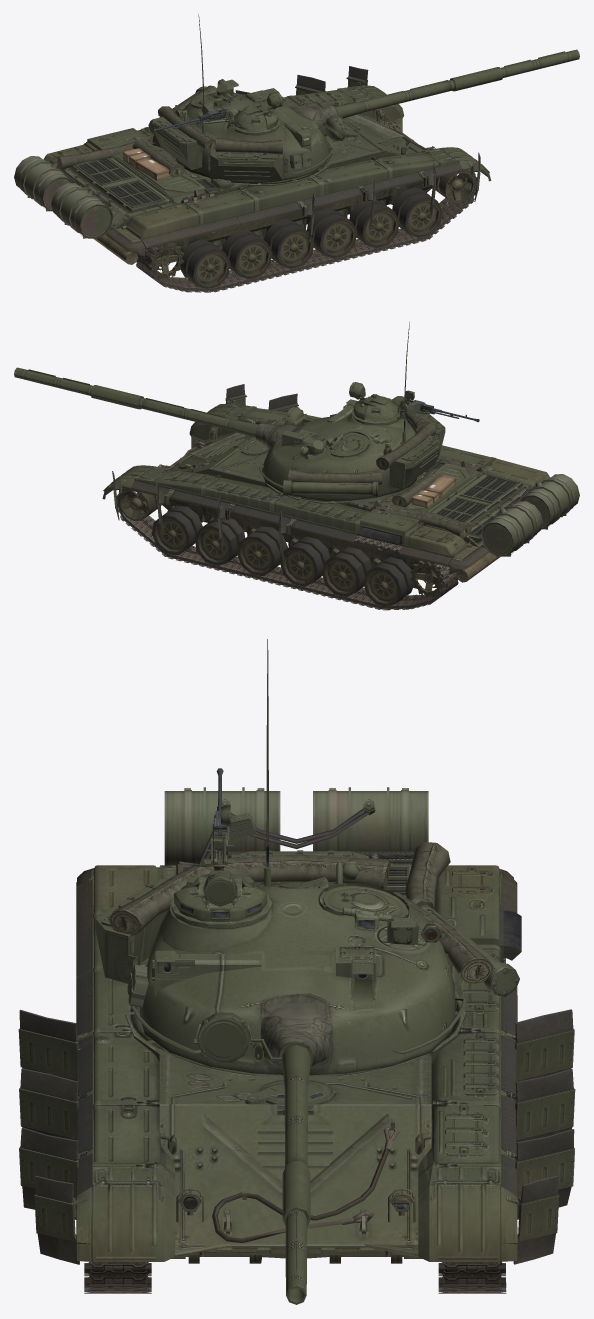
File: tank.glb
3 renders of one model, top to bottom at view 1: azimuth 30°, elevation 25°; view 2: azimuth 150°, elevation 25°; view 3: azimuth 270°, elevation 25°, orthographic. The views are drawn at different scales.
Parts seen in each view (by area): view 1: guard, turret, hull, hullb, gear4, track03, weapon, tire06, tire05, tire04, tire01, tire03 (+23 smaller); view 2: guard, turret, hull, gear4, track2, hullb, weapon, tire.005, gear8, tire.004, gear11, tire.003 (+22 smaller); view 3: guard, turret, hull, gear4, weapon, gear10, skirt6, skirt8, skirt5, mount2, skirt7, skirt3 (+15 smaller).
Boxes of the visible parts, x1,y1,x2,y2 form: guard: (44, 85, 491, 250); turret: (148, 79, 345, 183); hull: (63, 101, 435, 262); hullb: (61, 146, 222, 249); gear4: (14, 156, 112, 238); track03: (136, 162, 476, 292); weapon: (335, 49, 579, 118); tire06: (180, 239, 230, 288); tire05: (222, 229, 272, 279); tire04: (264, 219, 314, 268); tire01: (392, 187, 442, 237); tire03: (307, 208, 357, 258); guard: (102, 403, 549, 569); turret: (258, 407, 445, 500); hull: (158, 418, 533, 580); gear4: (481, 474, 579, 556); track2: (117, 480, 458, 610); hullb: (371, 460, 533, 567); weapon: (14, 367, 258, 437); tire.005: (363, 557, 413, 606); gear8: (386, 504, 472, 538); tire.004: (322, 546, 372, 596); gear11: (287, 469, 382, 484); tire.003: (280, 536, 330, 586); guard: (76, 865, 517, 1261); turret: (95, 850, 519, 1075); hull: (125, 866, 466, 1263); gear4: (164, 787, 428, 865); weapon: (279, 1042, 314, 1304); gear10: (201, 854, 390, 889); skirt6: (514, 1068, 575, 1150); skirt8: (514, 1009, 574, 1100); skirt5: (19, 1068, 79, 1140); mount2: (170, 872, 272, 925); skirt7: (18, 1009, 79, 1080); skirt3: (19, 1127, 79, 1219).
Bounding box in the file's own units: 10.02 × 4.28 × 4.54.
15 materials, 15 textured.
